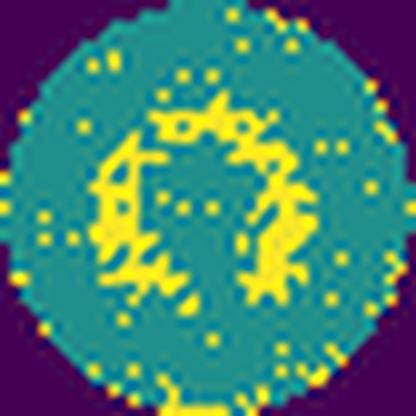Donut: (86, 87, 329, 321)
